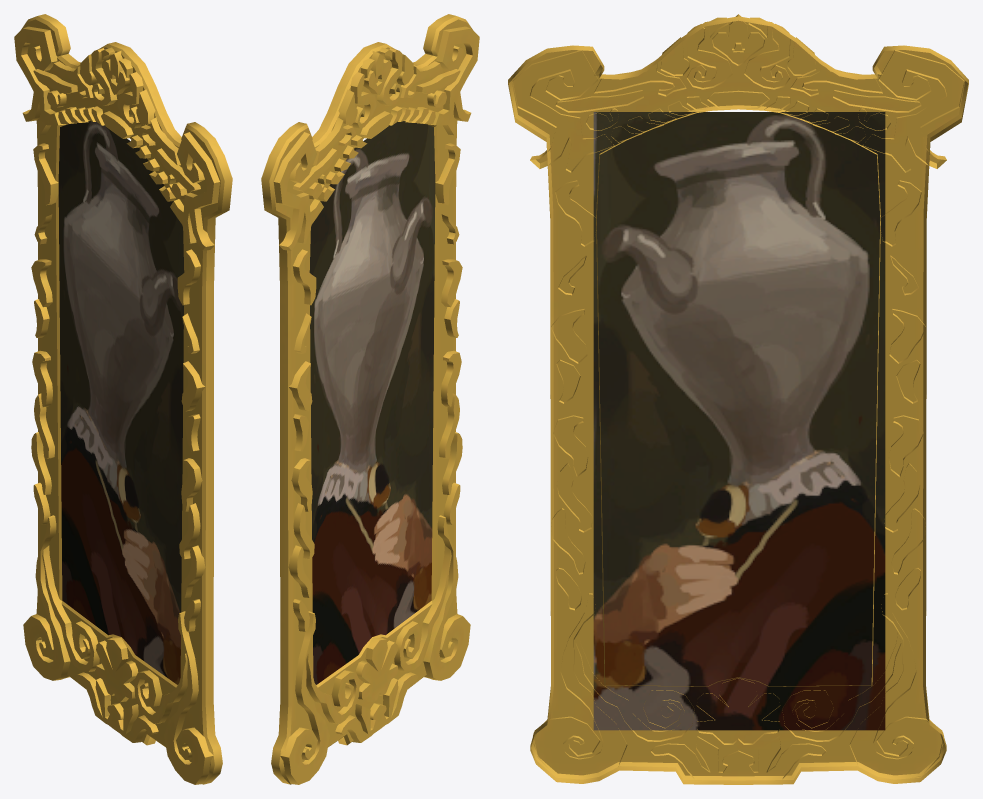
The model's file is PaintingFrame0.fbx.
3 views of the same model, side by side, from view 1: azimuth 30°, elevation 25°; view 2: azimuth 150°, elevation 25°; view 3: azimuth 270°, elevation 25° (orthographic). The views are drawn at different scales.
Parts seen in each view (by area): view 1: paintingPicture, paintingDetail, paintingFrame; view 2: paintingPicture, paintingDetail, paintingFrame; view 3: paintingPicture, paintingFrame, paintingDetail.
Boxes of the visible parts, x1,y1,x2,y2 form: paintingPicture: [58, 121, 184, 684]; paintingDetail: [14, 26, 220, 784]; paintingFrame: [21, 14, 232, 784]; paintingPicture: [309, 121, 435, 684]; paintingDetail: [273, 26, 479, 784]; paintingFrame: [261, 14, 472, 784]; paintingPicture: [593, 112, 885, 730]; paintingFrame: [508, 16, 968, 784]; paintingDetail: [512, 14, 964, 778].
Bounding box in the file's own units: 0.2109 × 8.37 × 4.57.
